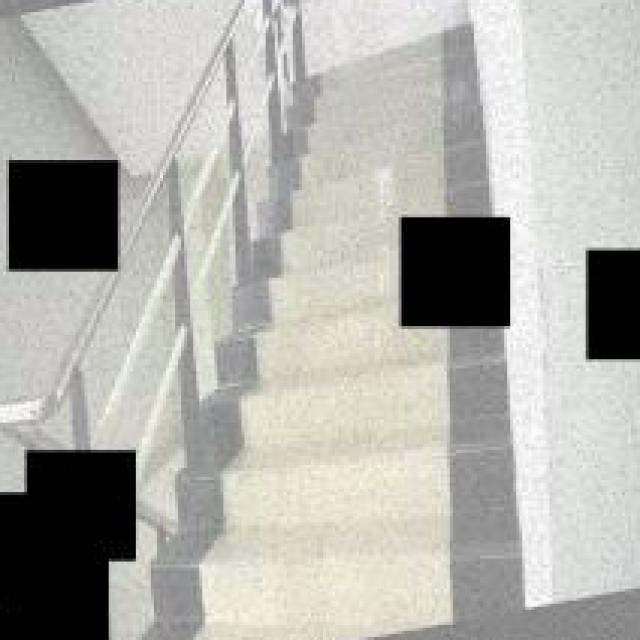upstair: (195, 339, 533, 640), (288, 41, 502, 207)
